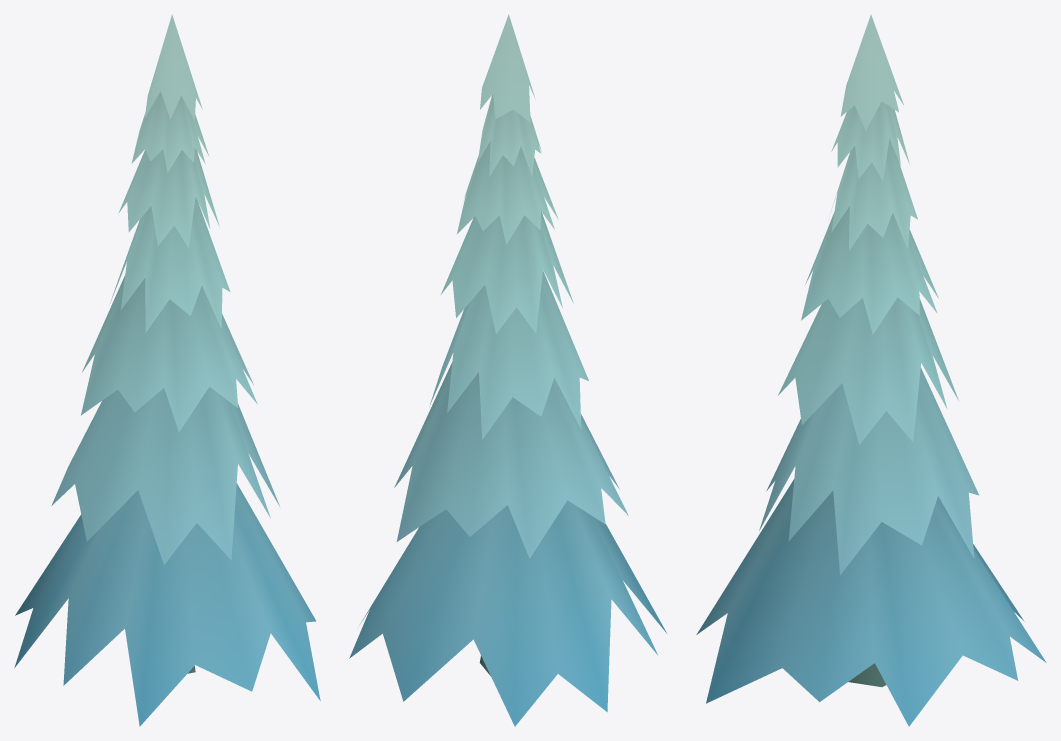
File: prop-spruce_2.glb
3 views of the same model, side by side, from view 1: azimuth 30°, elevation 25°; view 2: azimuth 150°, elevation 25°; view 3: azimuth 270°, elevation 25° (orthographic).
Parts seen in each view (by area): view 1: prop-spruce2; view 2: prop-spruce2; view 3: prop-spruce2.
Boxes of the visible parts, bbox=[...] form: prop-spruce2: bbox=[14, 14, 320, 726]; prop-spruce2: bbox=[349, 14, 666, 726]; prop-spruce2: bbox=[696, 14, 1046, 726].
Size of the model in its own units: 3.01 by 7.11 by 3.41.
